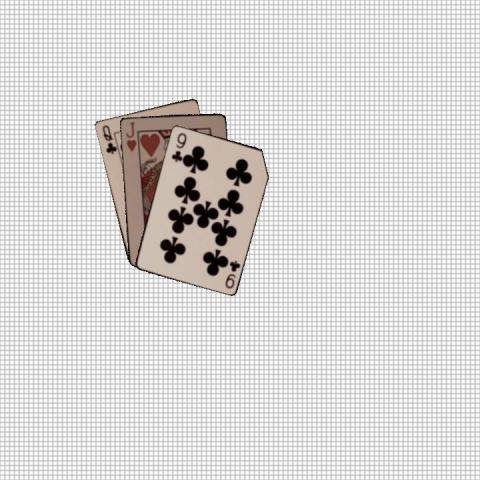9c: (222, 257, 241, 290), (169, 130, 187, 164)
Jh: (123, 118, 137, 152)
Qc: (100, 122, 118, 155)
